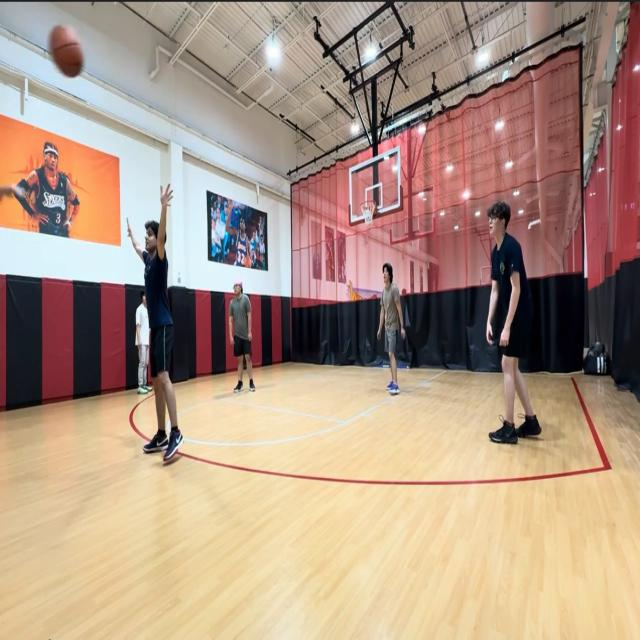Basketball: (50, 23, 85, 78)
Basketball Rim: (361, 200, 376, 226)
